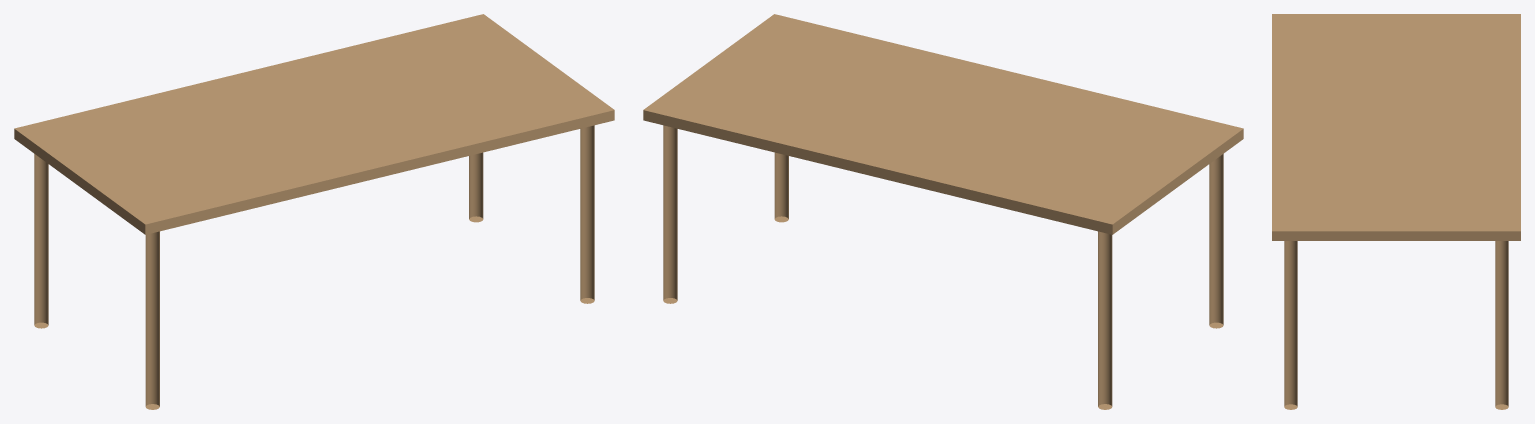
Rendered from dining_table_06.glb.
3 renders of one model, left to right at view 1: azimuth 30°, elevation 25°; view 2: azimuth 150°, elevation 25°; view 3: azimuth 270°, elevation 25°, orthographic. The views are drawn at different scales.
Size of the model in its own units: 1.9 by 0.75 by 0.92.
